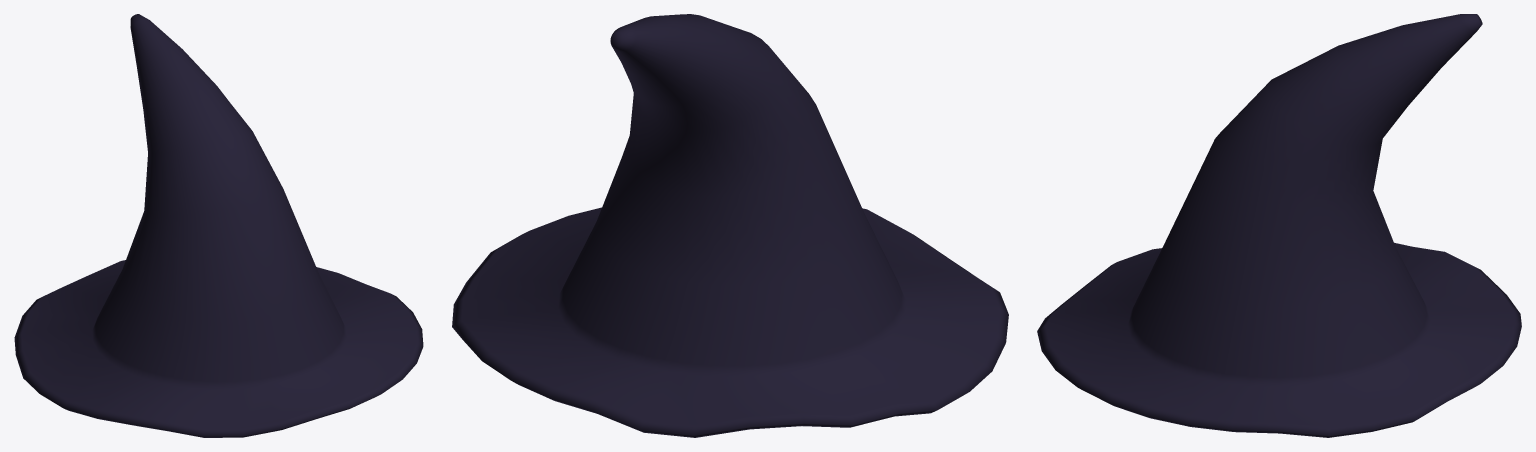
Rendered from Witch Hat.glb.
3 renders of one model, left to right at view 1: azimuth 30°, elevation 25°; view 2: azimuth 150°, elevation 25°; view 3: azimuth 270°, elevation 25°, orthographic. The views are drawn at different scales.
Parts seen in each view (by area): view 1: Witch Hat; view 2: Witch Hat; view 3: Witch Hat.
Boxes of the visible parts, left/top/right/bottom form: Witch Hat: left=14, top=14, right=423, bottom=437; Witch Hat: left=452, top=14, right=1008, bottom=437; Witch Hat: left=1037, top=14, right=1521, bottom=437.
Bounding box in the file's own units: 0.5701 × 0.4358 × 0.57.
